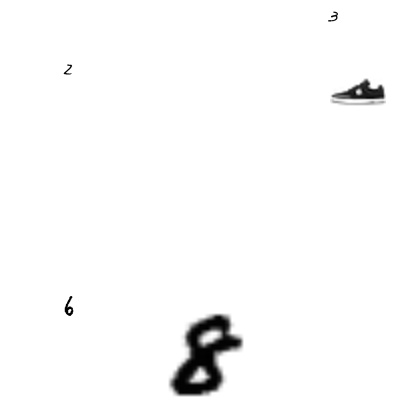2: (61, 63, 75, 77)
3: (327, 10, 341, 24)
6: (54, 293, 82, 321)
8: (146, 299, 258, 411)
Sneaker: (330, 63, 386, 119)
